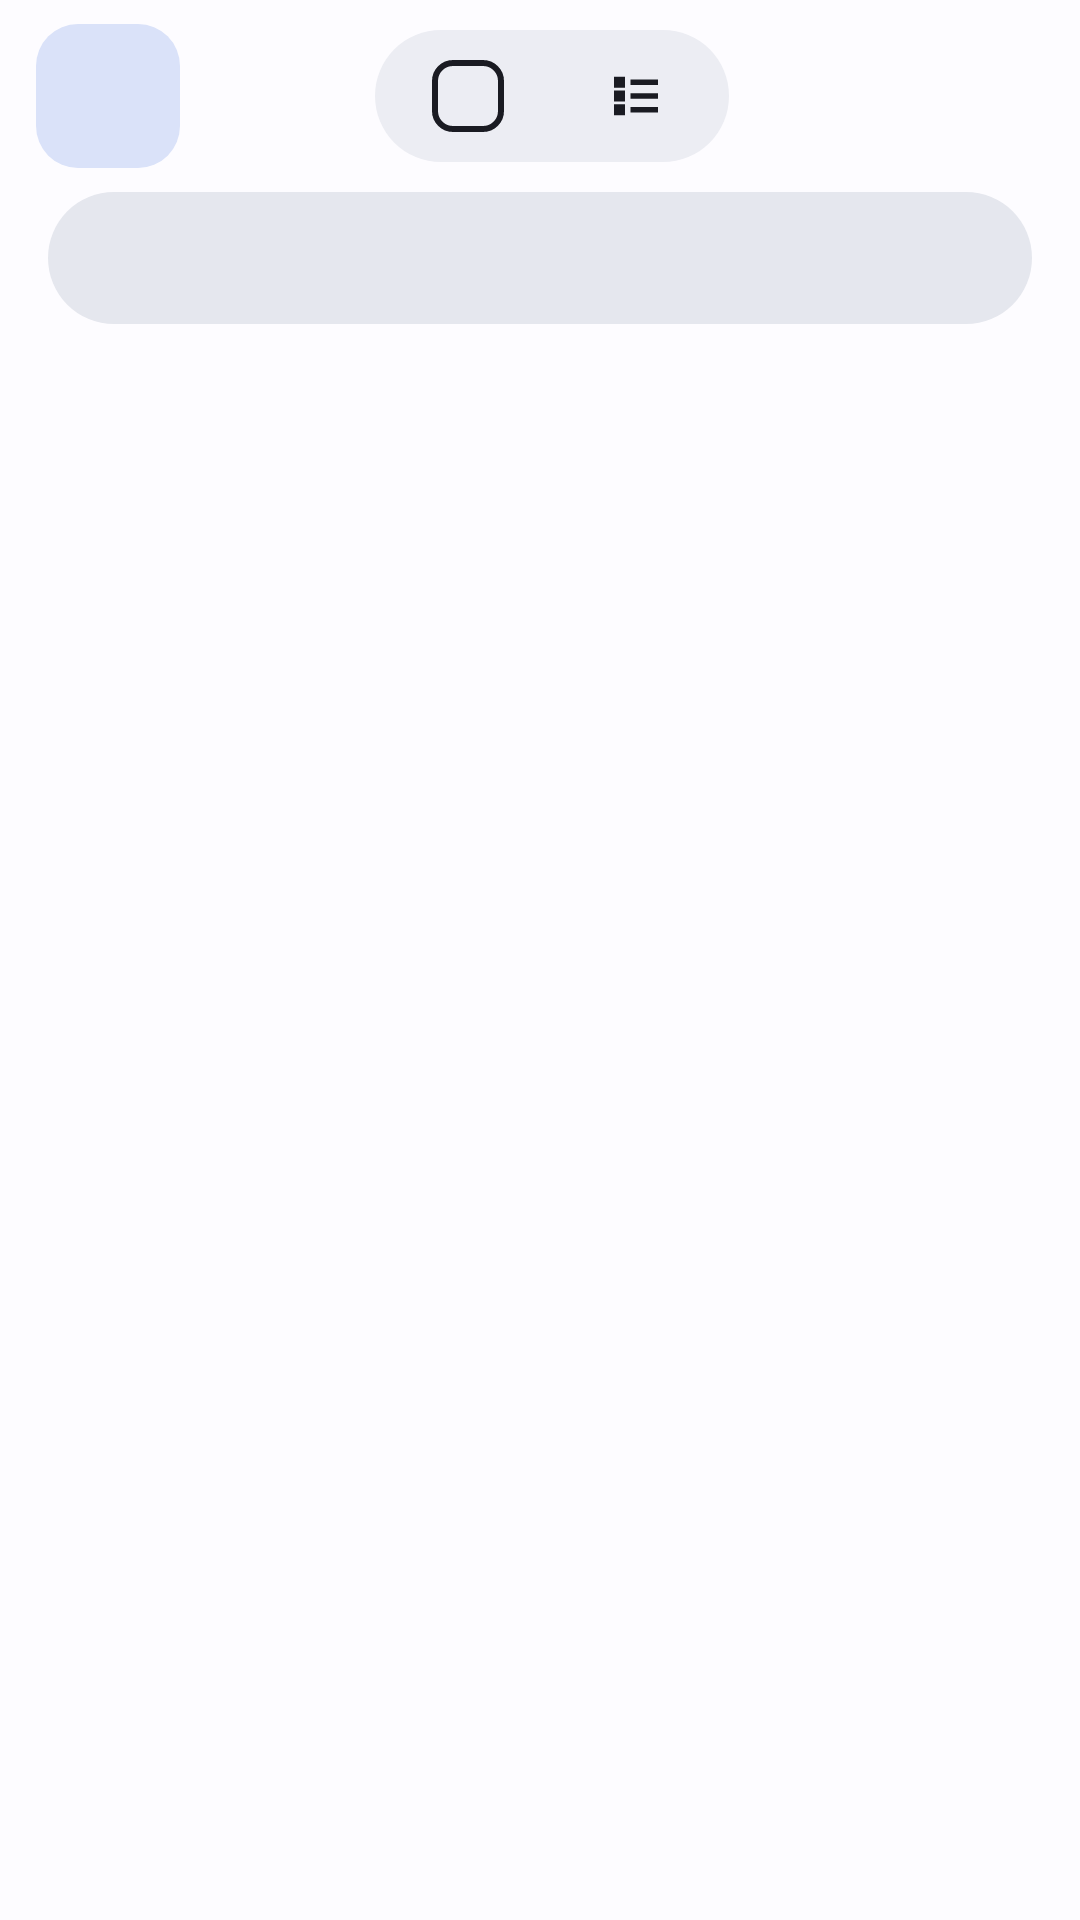

Named icons in this screenshot (1080 x 1920) and their centers, [x,y]:
list: [636,96]
